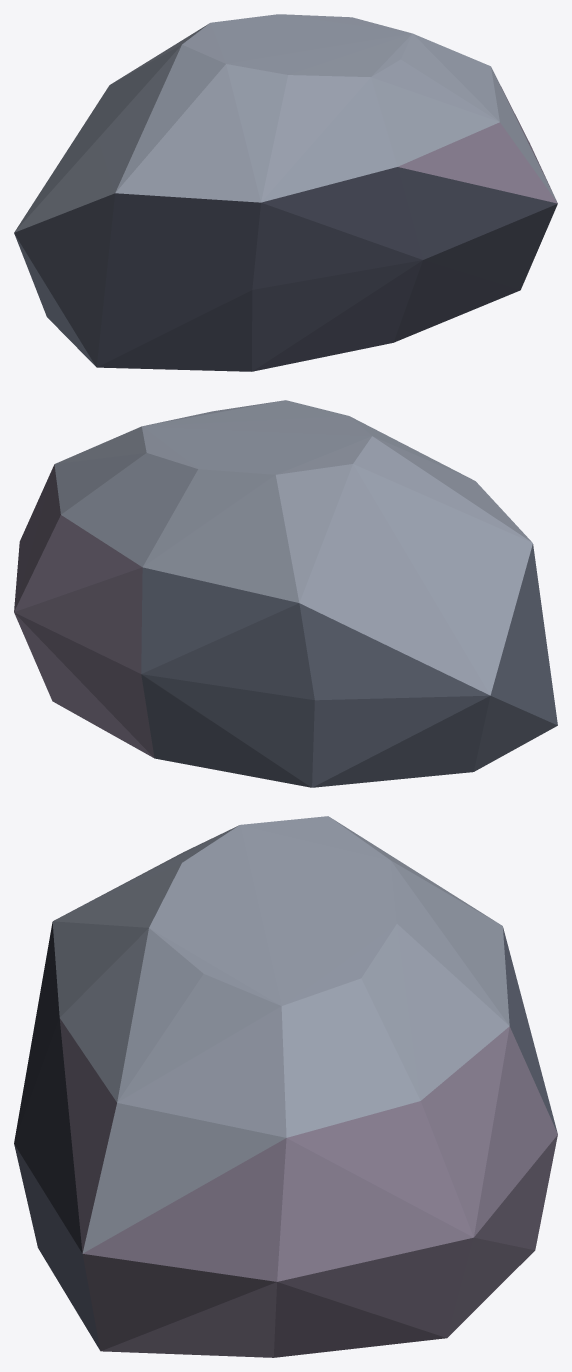
Rendered from TW_ROCK_LOW_WEDGE_A_LOD0.glb.
The picture shows the model from 3 angles, top to bottom: view 1: azimuth 30°, elevation 25°; view 2: azimuth 150°, elevation 25°; view 3: azimuth 270°, elevation 25°; orthographic projection. The views are drawn at different scales.
Visible parts, largest first — view 1: TW_ROCK_LOW_WEDGE_A_LOD0; view 2: TW_ROCK_LOW_WEDGE_A_LOD0; view 3: TW_ROCK_LOW_WEDGE_A_LOD0.
Part boxes in pixels (x1,y1,x2,y2): TW_ROCK_LOW_WEDGE_A_LOD0: [14, 14, 557, 371]; TW_ROCK_LOW_WEDGE_A_LOD0: [14, 400, 557, 787]; TW_ROCK_LOW_WEDGE_A_LOD0: [14, 816, 557, 1357].
Size of the model in its own units: 1.3 by 0.65 by 0.9.
Materials: 1 (1 with a texture image).
